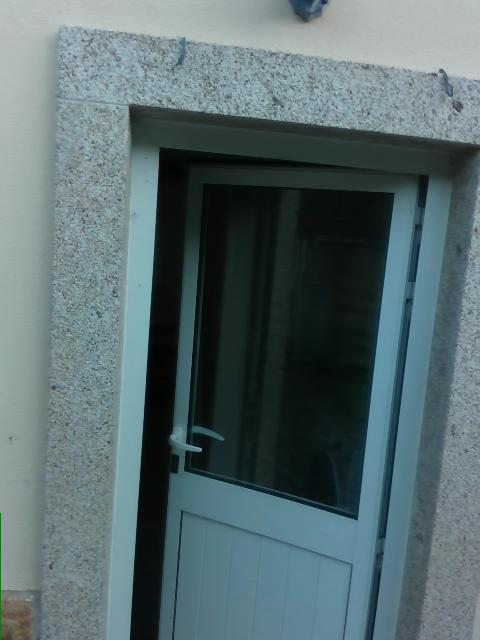semi_door: (119, 131, 433, 639)
